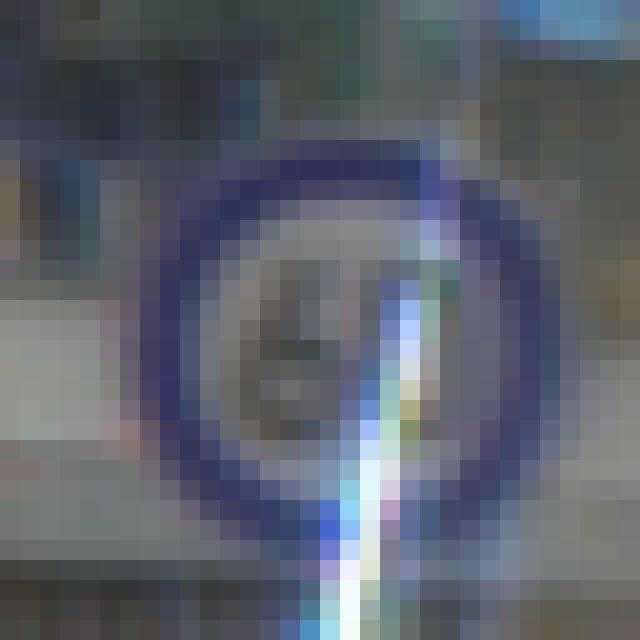SPEED-LIMIT-60: (136, 120, 582, 559)
